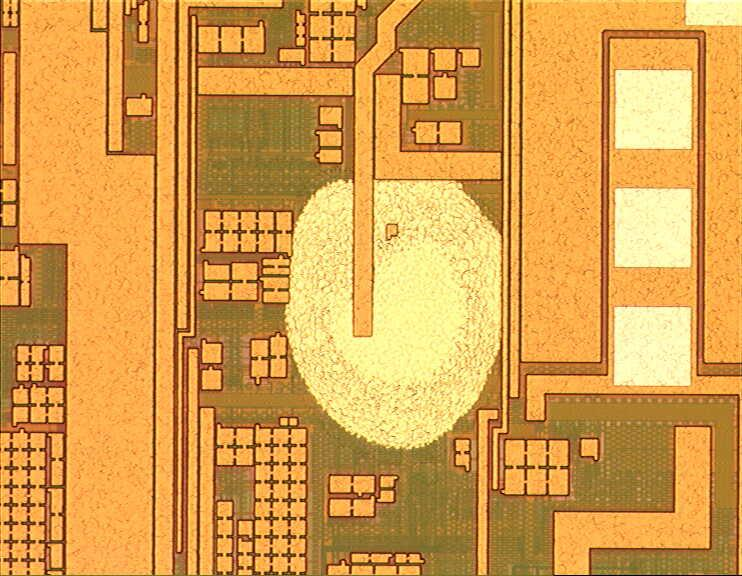BLOCK ETCH: (267, 163, 525, 467)
